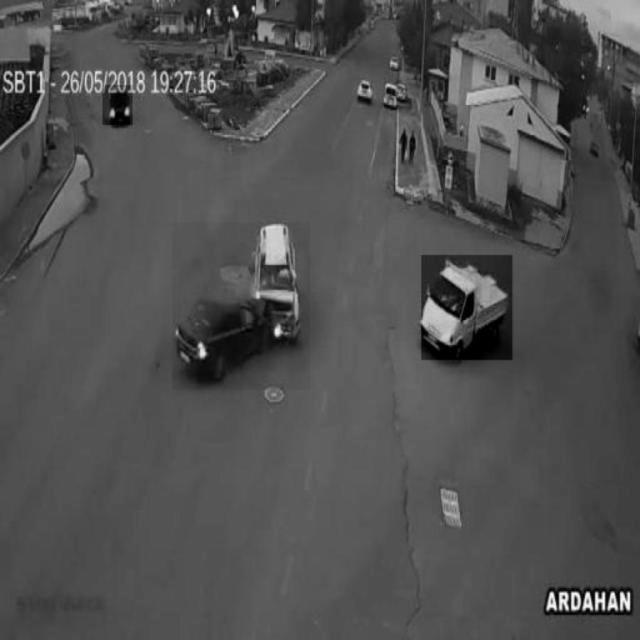accident: (172, 223, 310, 390)
vehicle: (422, 255, 513, 359), (103, 85, 133, 126)
